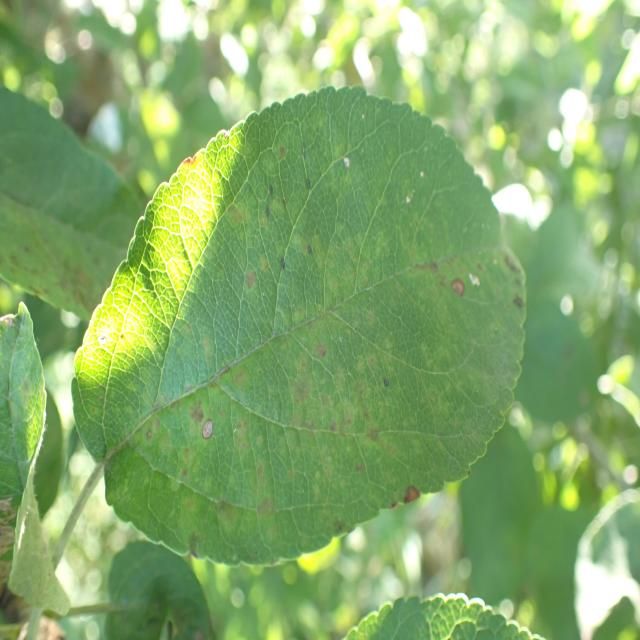frog-eye-leaf-spot: (71, 83, 528, 569)
